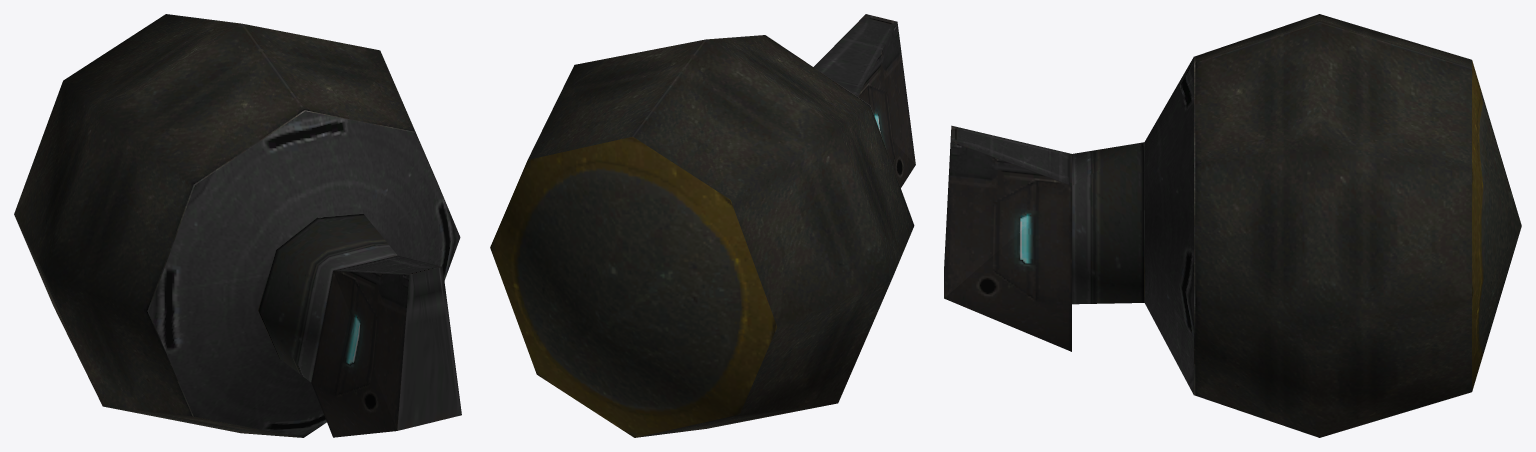
File: t6_wpn_grenade_frag_projectile_LOD2.obj
3 views of the same model, side by side, from view 1: azimuth 30°, elevation 25°; view 2: azimuth 150°, elevation 25°; view 3: azimuth 270°, elevation 25° (orthographic). The views are drawn at different scales.
Visible parts, largest first — view 1: mtl_t6_wpn_grenade_frag; view 2: mtl_t6_wpn_grenade_frag; view 3: mtl_t6_wpn_grenade_frag.
Part boxes in pixels (left/top/right/bottom): mtl_t6_wpn_grenade_frag: left=14, top=14, right=461, bottom=437; mtl_t6_wpn_grenade_frag: left=490, top=14, right=915, bottom=437; mtl_t6_wpn_grenade_frag: left=944, top=14, right=1521, bottom=437.
Size of the model in its own units: 8.13 by 8.13 by 10.42.
